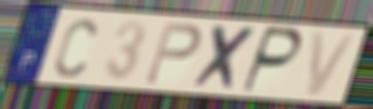3: (103, 19, 151, 83)
C: (52, 16, 99, 80)
P: (239, 24, 305, 96), (142, 20, 204, 87)
V: (305, 30, 360, 98)
X: (189, 23, 261, 94)
